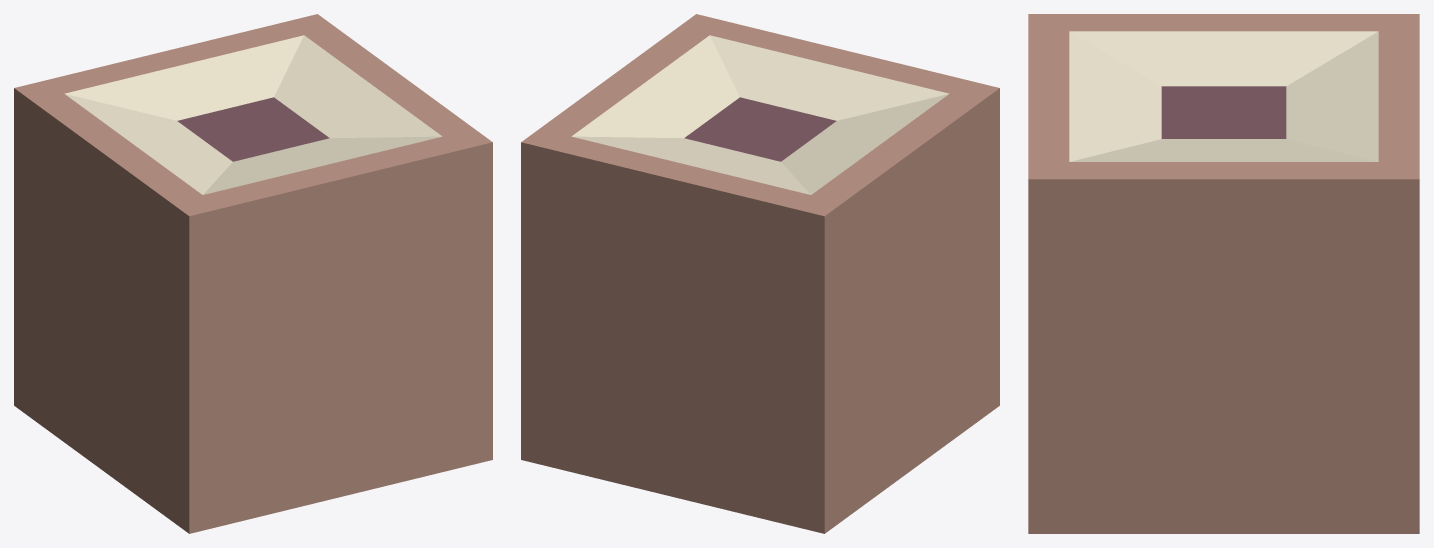
Rendered from botdock.gltf.
The picture shows the model from 3 angles, left to right: view 1: azimuth 30°, elevation 25°; view 2: azimuth 150°, elevation 25°; view 3: azimuth 270°, elevation 25°; orthographic projection. The views are drawn at different scales.
Parts seen in each view (by area): view 1: BotDock-col; view 2: BotDock-col; view 3: BotDock-col.
Part boxes in pixels (x1,y1,x2,y2): BotDock-col: [14, 14, 492, 533]; BotDock-col: [521, 14, 999, 533]; BotDock-col: [1028, 14, 1419, 533].
Size of the model in its own units: 4 by 4 by 4.
1 material, 1 textured.
